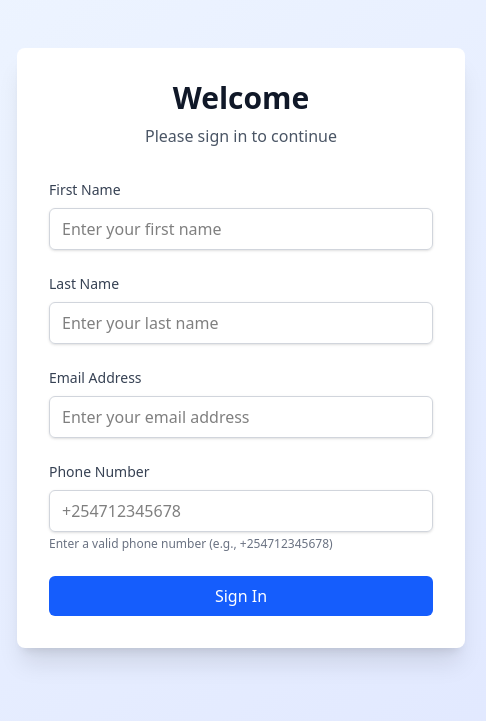
Test: LoginPage Component › shows error for invalid phone number format
This screenshot has width=486, height=721.
# Fill in all fields with invalid phone number
Type "John" into the field labelled "First Name" at (241, 229), box [49,208,433,250]
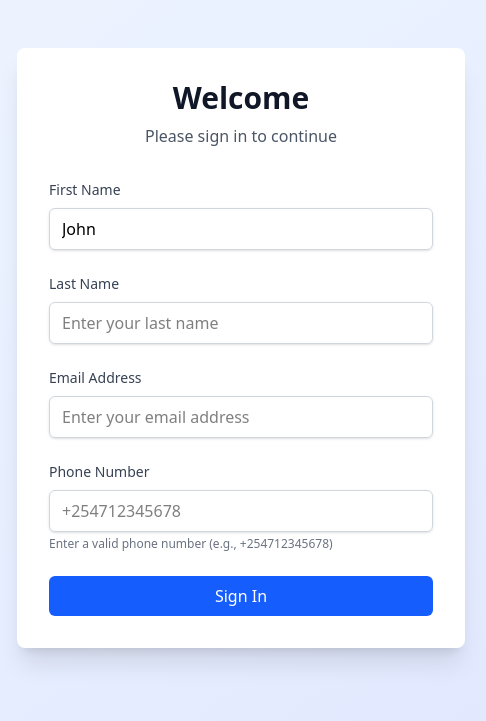
Type "Doe" into the field labelled "Last Name" at (241, 323), box [49,302,433,344]
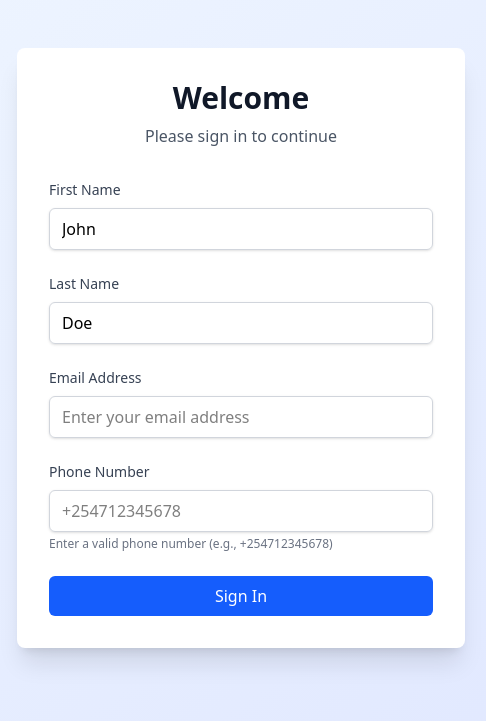
Type "john@example.com" into the field labelled "Email Address" at (241, 417), box [49,396,433,438]
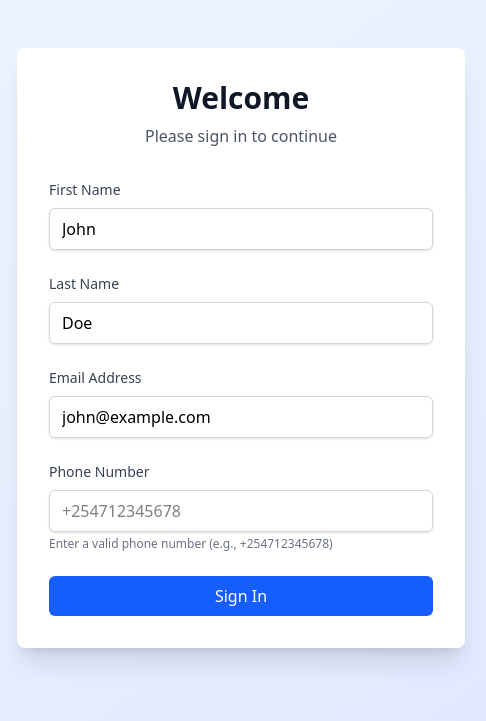
Type "1234567890" into the field labelled "Phone Number" at (241, 511), box [49,490,433,532]
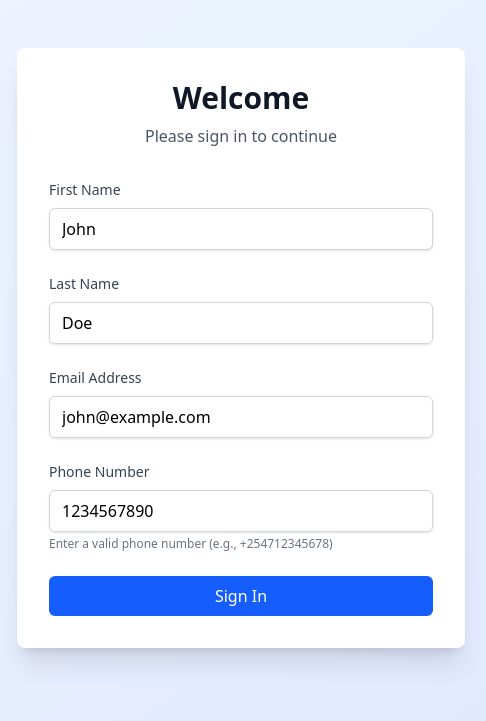
Click the button "Sign In" at (241, 596), box [49,576,433,616]
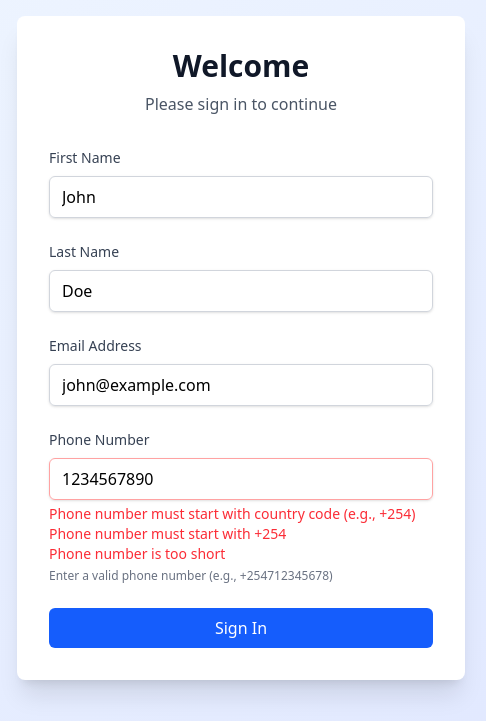
Expected: the text "Phone number must start with +254" is shown, [49,524,286,543]
